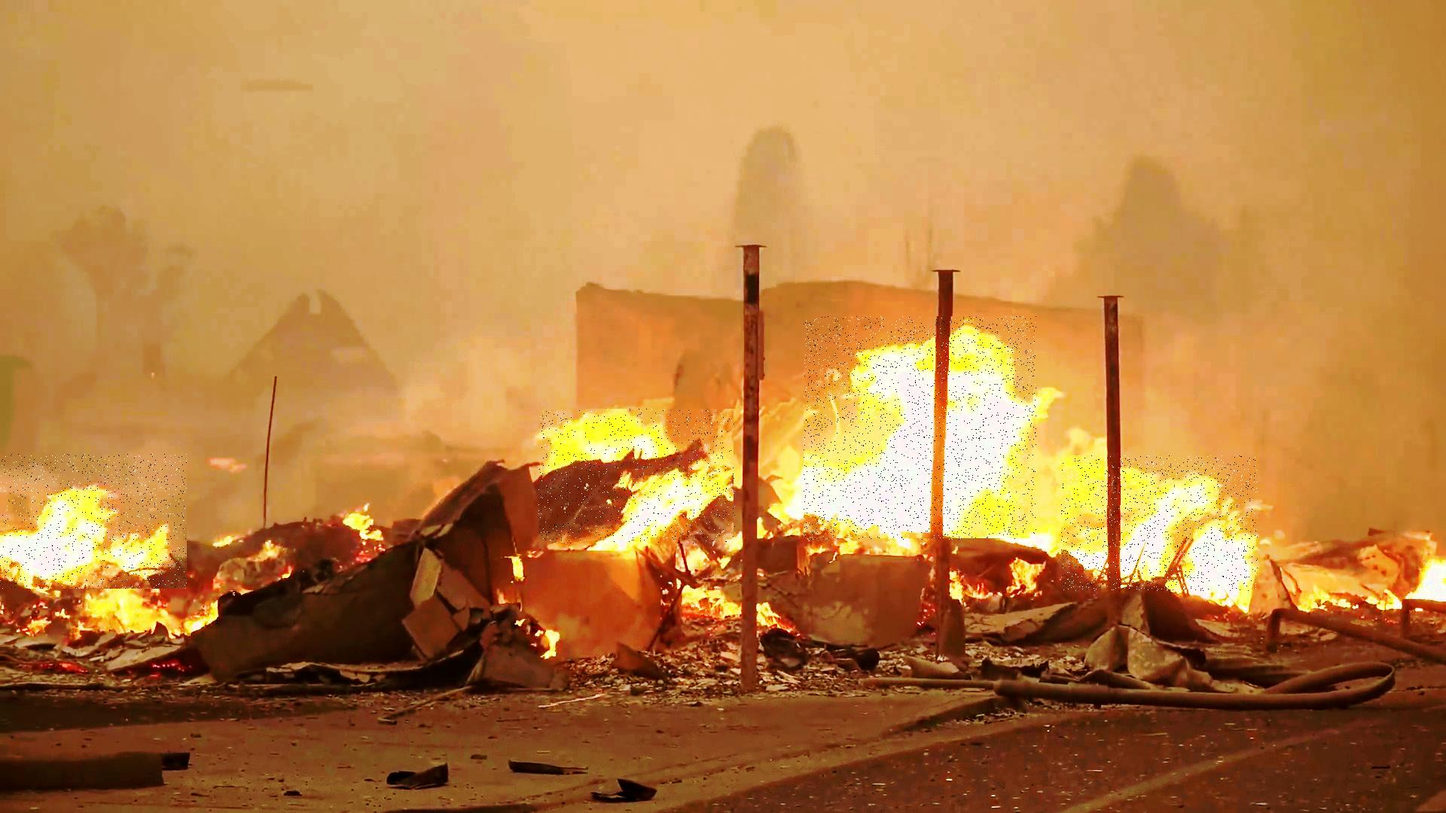fire: (804, 317, 1037, 540), (1061, 456, 1258, 592), (539, 409, 736, 544), (0, 454, 187, 589)
